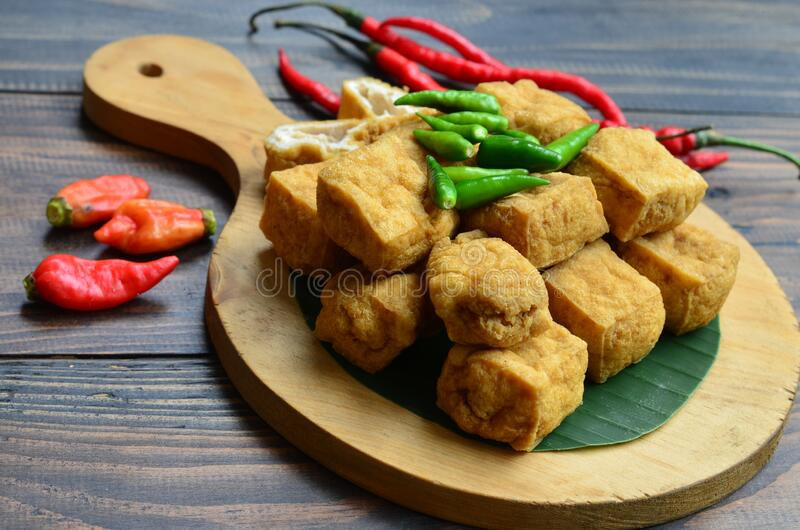Tahu: (439, 327, 590, 469), (649, 214, 754, 327), (341, 260, 448, 366), (571, 244, 670, 342), (611, 109, 702, 214), (430, 244, 536, 334), (267, 155, 349, 251), (515, 163, 599, 255), (341, 167, 419, 261)
